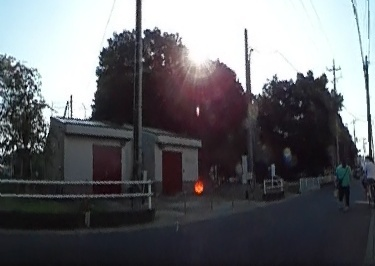person: (334, 158, 352, 205), (358, 155, 375, 199)
